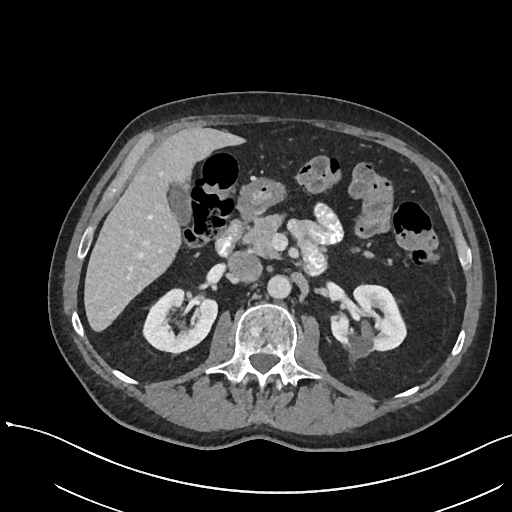Lesion: (344, 323, 376, 371)
